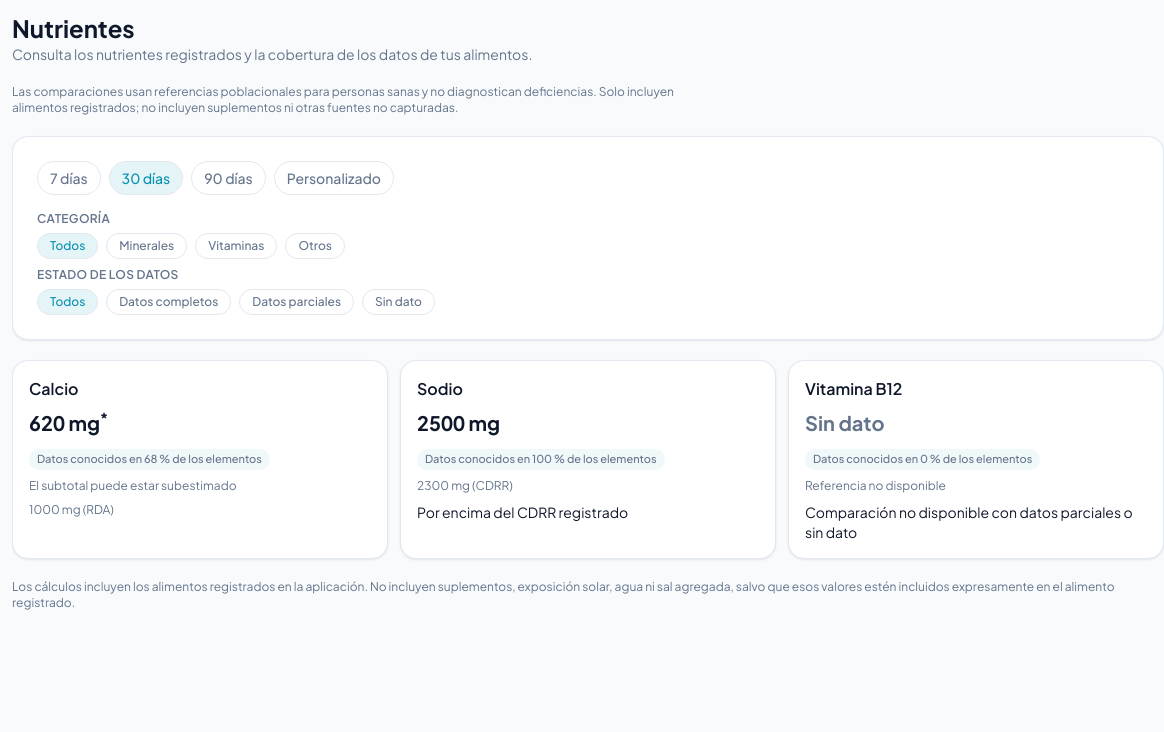
Test: NutrientReportPage › filters by category and status without ever offering "deficient"/"excess" filters
The image size is (1164, 732).
Expected: the text "Calcio" is shown, [29,378,78,399]
Expected: the button "Minerales" is shown, [106,233,187,259]
Click the button "Vitaminas" at (236, 246), box [195,233,277,259]
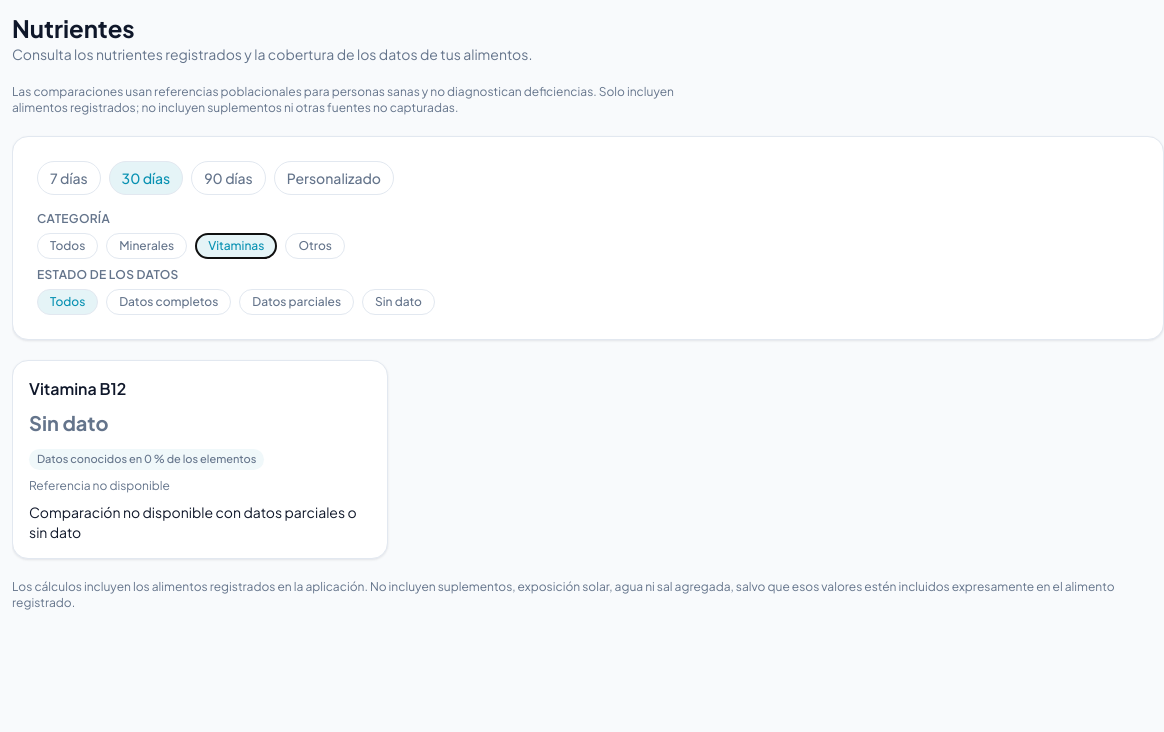
Expected: the text "Vitamina B12" is shown, [29,378,126,399]
Now the link "Calcio" is gone
